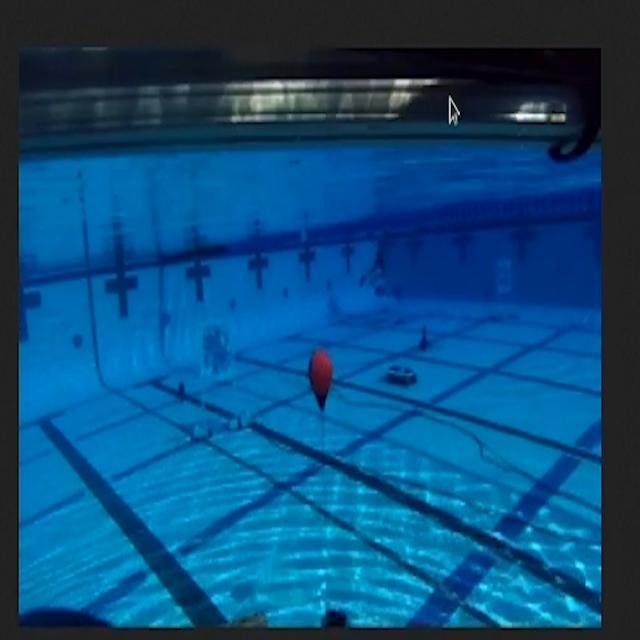Buoy: (292, 334, 349, 436)
